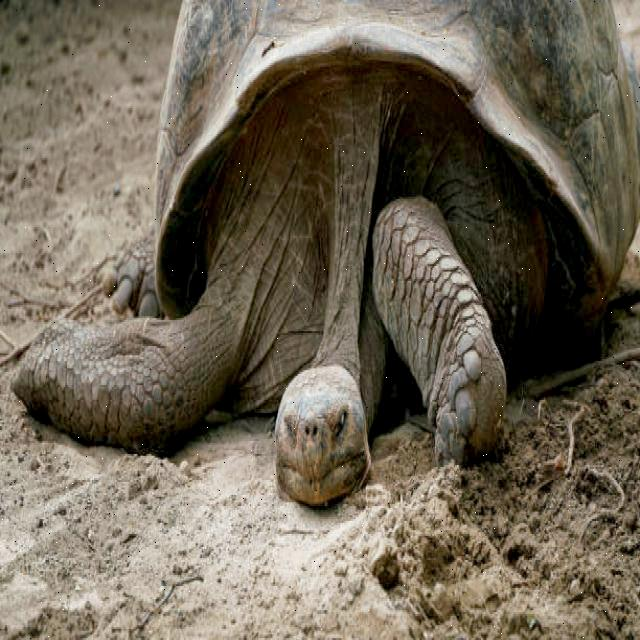tortoise: (13, 0, 631, 510)
